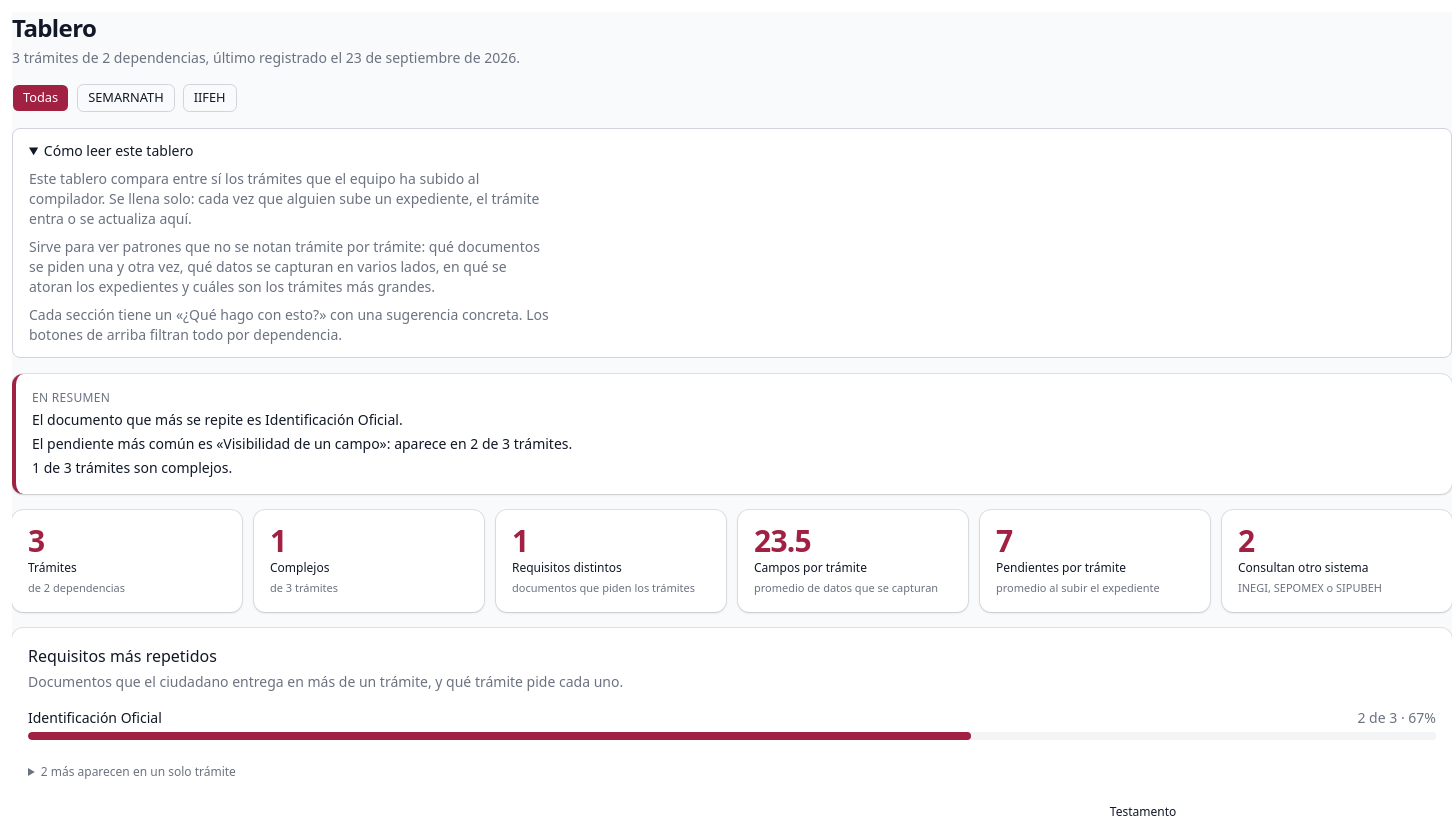
Test: con un filtro activo la cabecera cuenta la dependencia filtrada, no todas
Expected: the heading "Tablero" is shown, [12,11,96,44]
Click the button "IIFEH" at (210, 98), box [183,84,236,112]
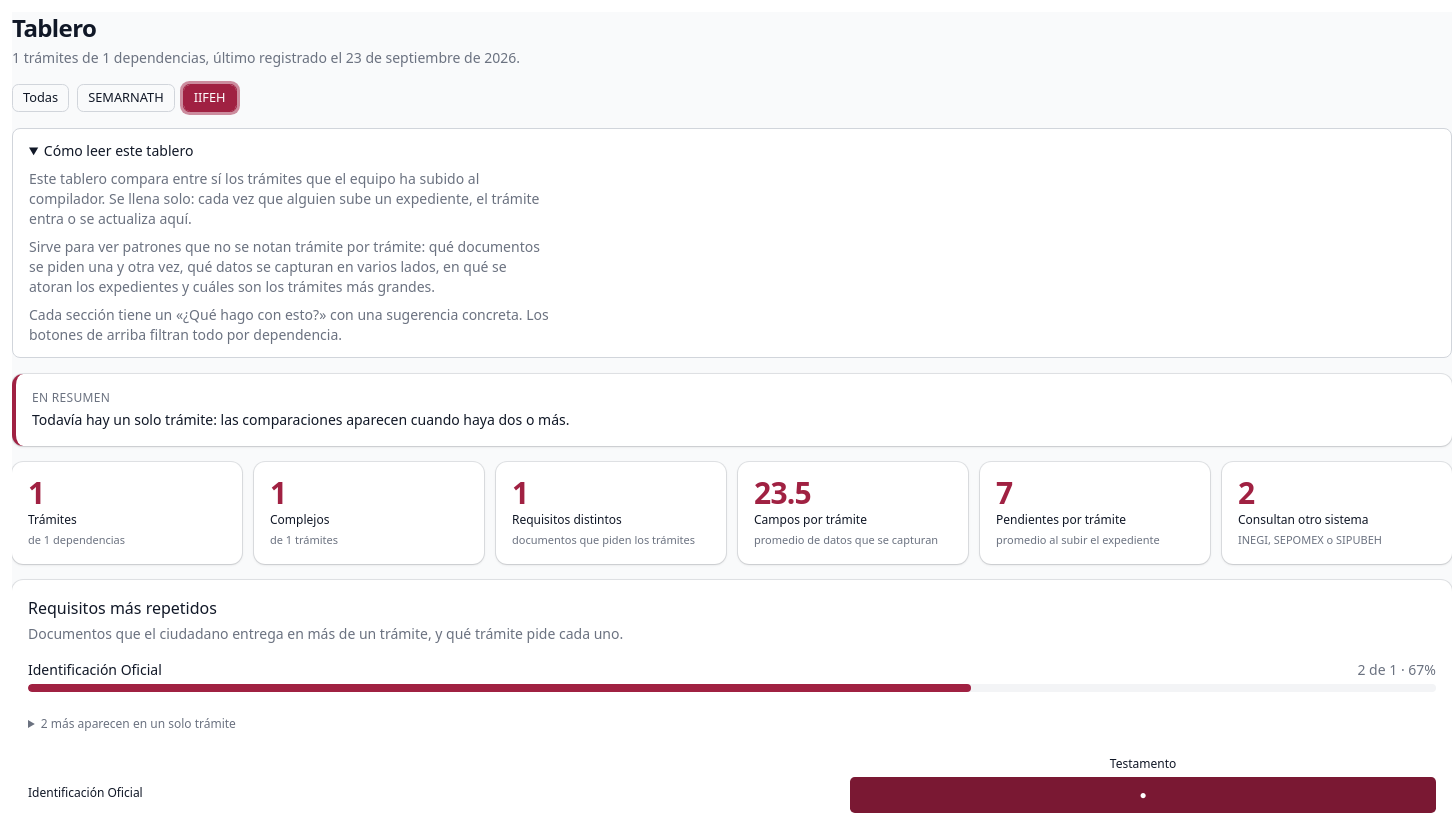
Expected: the button "SEMARNATH" is shown, [77,84,175,112]
Expected: the text "1 trámites de 1 dependencias" is shown, [12,48,520,67]
